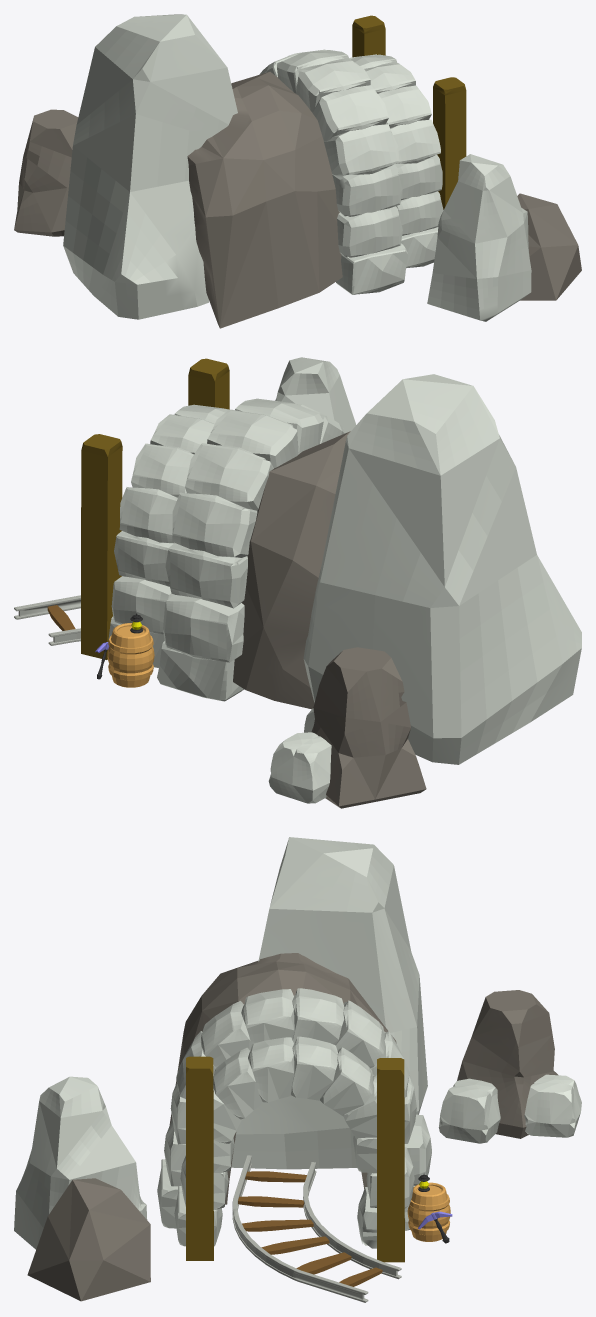
File: mine.fbx
3 renders of one model, top to bottom at view 1: azimuth 30°, elevation 25°; view 2: azimuth 150°, elevation 25°; view 3: azimuth 270°, elevation 25°, orthographic. The views are drawn at different scales.
Visible parts, largest first — view 1: rocher 3; view 2: rocher 3; view 3: rocher 3.
Part boxes in pixels (x1=…): rocher 3: x1=14, y1=14, x2=581, y2=328; rocher 3: x1=14, y1=357, x2=581, y2=808; rocher 3: x1=14, y1=837, x2=581, y2=1302.
Size of the model in its own units: 848 by 535 by 908.
